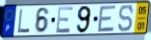6: (33, 7, 51, 35)
9: (76, 5, 93, 35)
E: (96, 4, 117, 34), (55, 6, 75, 35)
L: (17, 9, 31, 34)
S: (117, 4, 134, 33)
